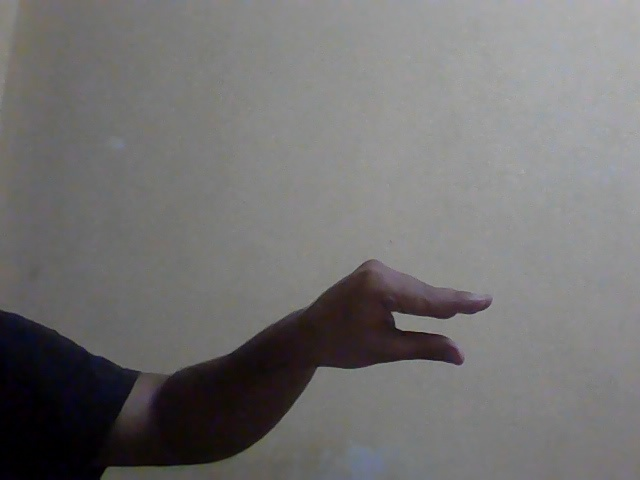No: (265, 240, 532, 410)
